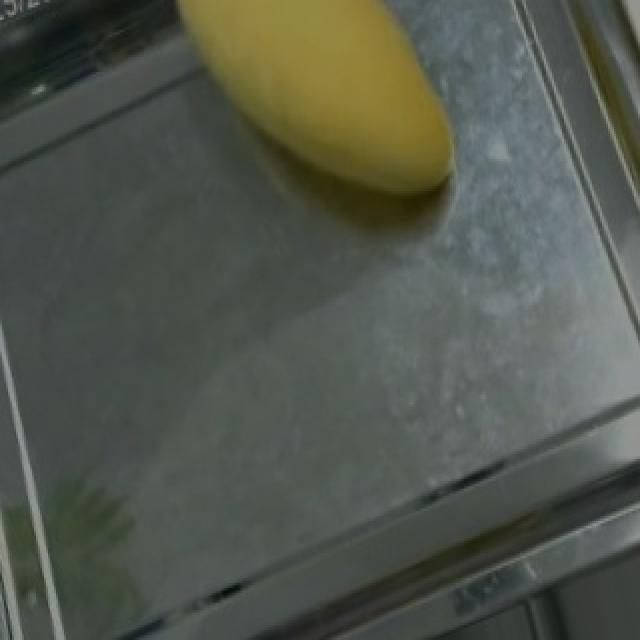fruit: (156, 0, 508, 251)
